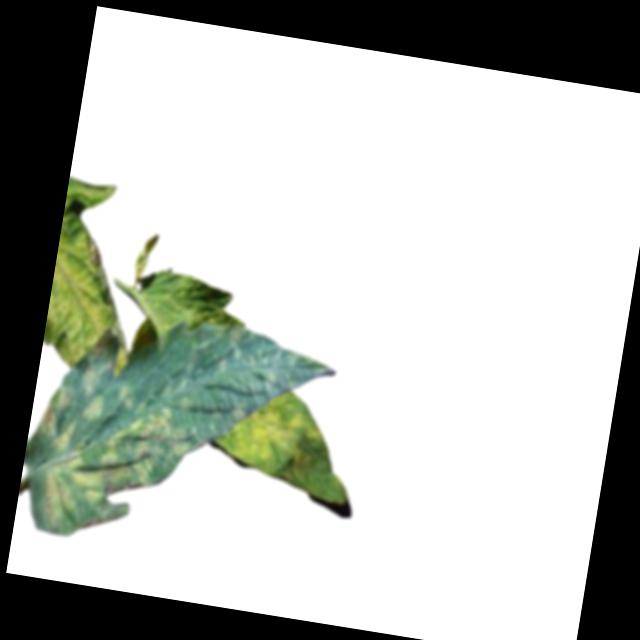Leaf_Mold: (23, 374, 207, 550), (39, 232, 139, 385), (222, 389, 325, 478)
